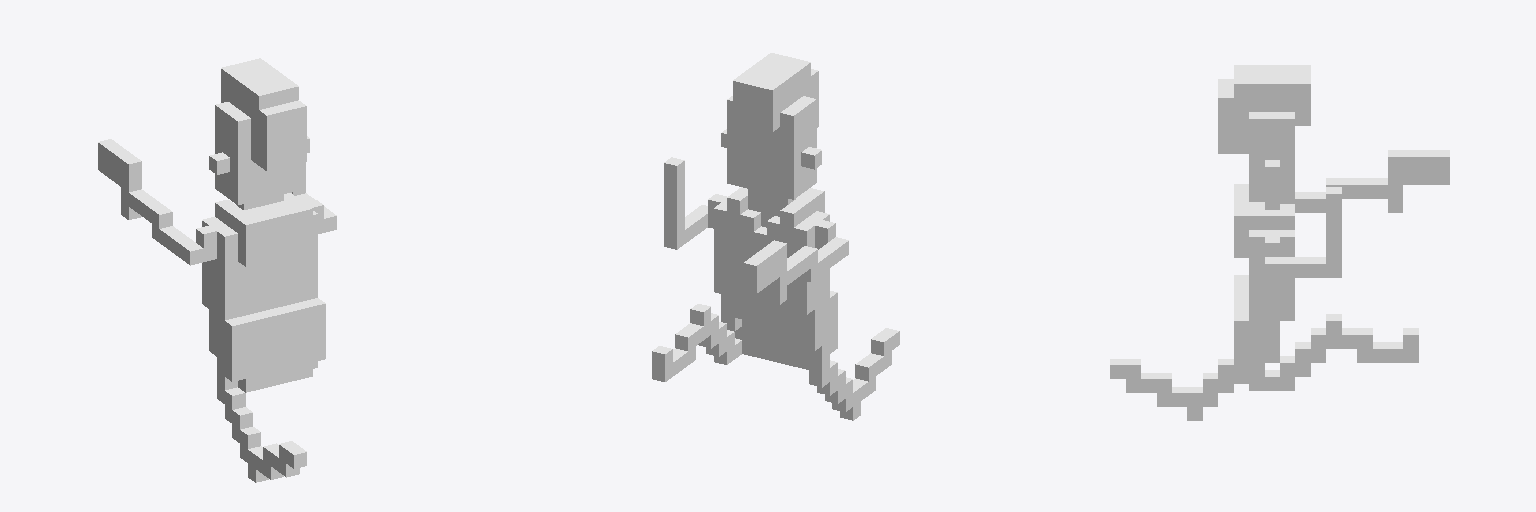
File: character_One_Run_Shoot2-04.obj
The picture shows the model from 3 angles: view 1: azimuth 30°, elevation 25°; view 2: azimuth 150°, elevation 25°; view 3: azimuth 270°, elevation 25°; orthographic projection.
Size of the model in its own units: 11 by 26 by 22.